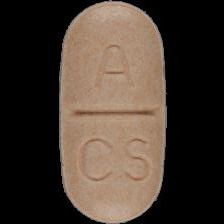54868-4729: (0, 0, 224, 224)
